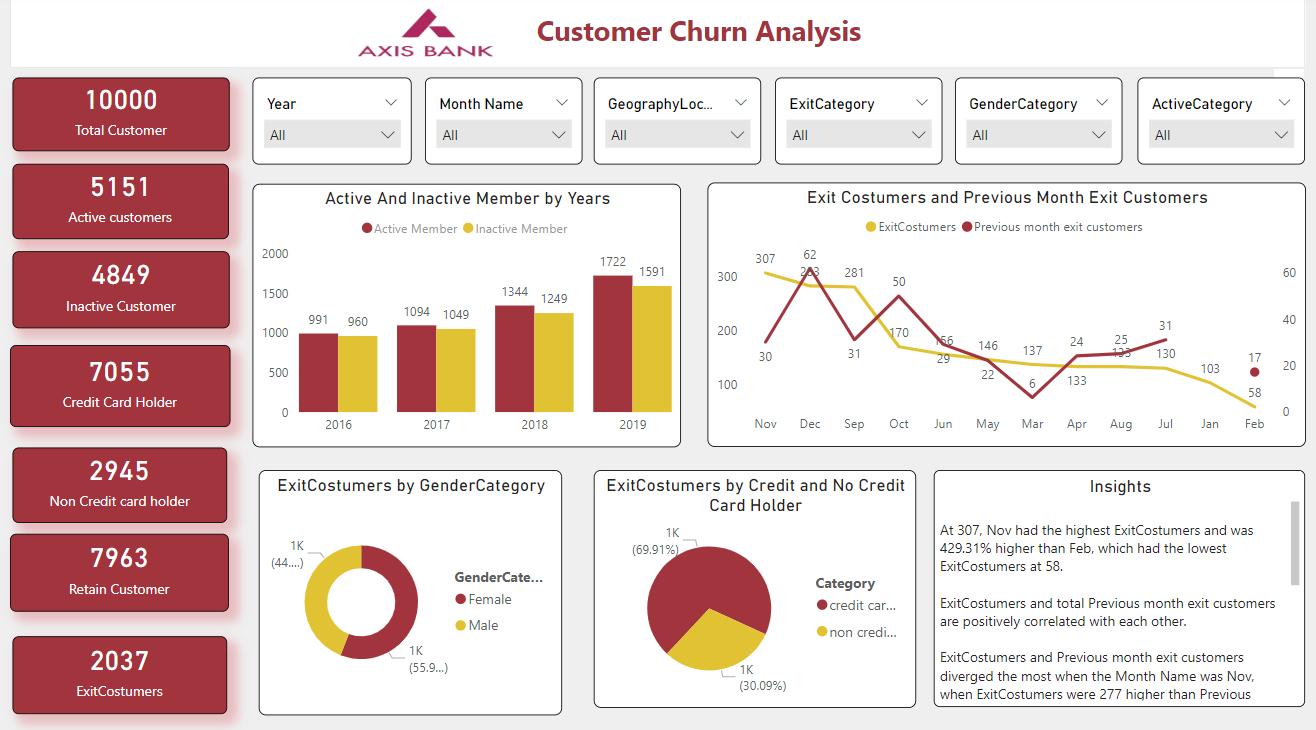

What the dashboard file says about the page in this screenshot:
{"tool":"powerbi","page":{"name":"Page 1","canvas":[1280,720],"ordinal":0},"visuals":[{"type":"card","fields":{"Values":["Calculation.Total Customer"]},"box":[12.3,79.6,209.9,71.4],"z":0},{"type":"card","fields":{"Values":["Calculation.Active customers"]},"box":[12.3,163.3,208.6,72.7],"z":1000},{"type":"card","fields":{"Values":["Calculation.Inactive Customer"]},"box":[12.3,247,209.9,74.1],"z":2000},{"type":"card","fields":{"Values":["Calculation.Credit Card Holder"]},"box":[9.6,337.6,212.7,79.6],"z":3000},{"type":"textbox","box":[9.6,0,1250.1,70],"z":4000},{"type":"image","box":[336.2,0,150,70],"z":5000},{"type":"card","fields":{"Values":["Calculation.Non Credit card holder"]},"box":[12.3,436.4,207.2,72.7],"z":6000},{"type":"card","fields":{"Values":["Calculation.Retain Customer"]},"box":[9.6,520.1,211.3,75.5],"z":7000},{"type":"card","fields":{"Values":["Calculation.ExitCostumers"]},"box":[12.3,618.9,207.2,75.5],"z":8000},{"type":"slicer","fields":{"Values":["DateMaster.Year"]},"box":[244.3,79.6,153.7,83.7],"z":9000},{"type":"slicer","fields":{"Values":["DateMaster.Month Name"]},"box":[410.3,79.6,152.3,83.7],"z":10000},{"type":"slicer","fields":{"Values":["Geography.GeographyLocation"]},"box":[573.6,79.6,161.9,83.7],"z":11000},{"type":"slicer","fields":{"Values":["ExitCustomer.ExitCategory"]},"box":[747.9,79.6,161.9,83.7],"z":12000},{"type":"slicer","fields":{"Values":["Gender.GenderCategory"]},"box":[922.1,79.6,161.9,83.7],"z":13000},{"type":"slicer","fields":{"Values":["ActiveCustomer.ActiveCategory"]},"box":[1097.8,79.6,161.9,83.7],"z":14000},{"type":"clusteredColumnChart","title":"Active And Inactive Member by Years","fields":{"Category":["DateMaster.Year","DateMaster.Month Name"],"Y":["Calculation.Total Customer"],"Series":["ActiveCustomer.ActiveCategory"]},"box":[243.7,182.2,413.8,254.6],"z":15000},{"type":"lineChart","title":"Exit Costumers and Previous Month Exit Customers","fields":{"Category":["DateMaster.Month Name"],"Y2":["Calculation.Previous month exit customers"],"Y":["Calculation.ExitCostumers"]},"box":[682.5,181.2,577.5,255],"z":16000},{"type":"donutChart","fields":{"Y":["Calculation.ExitCostumers"],"Category":["Gender.GenderCategory"]},"box":[249.7,458.4,293.2,236.5],"z":17000},{"type":"pieChart","title":"ExitCostumers by Credit and No Credit Card Holder","fields":{"Y":["Calculation.ExitCostumers"],"Category":["CreditCard.Category"]},"box":[573.1,458.4,311.3,229.2],"z":18000},{"type":"textbox","title":"Insights","box":[901.2,458.8,358.8,228.8],"z":19000}]}

Visuals, with their boxes in screenshot pixels (x1, y1, x2, y2), scaled from the page's 1280x720 canvas onto the 1316x730 screenshot:
card - Calculation.Total Customer: 13 81 228 153
card - Calculation.Active customers: 13 166 227 239
card - Calculation.Inactive Customer: 13 250 228 326
card - Calculation.Credit Card Holder: 10 342 229 423
textbox: 10 0 1295 71
image: 346 0 500 71
card - Calculation.Non Credit card holder: 13 442 226 516
card - Calculation.Retain Customer: 10 527 227 604
card - Calculation.ExitCostumers: 13 627 226 704
slicer - DateMaster.Year: 251 81 409 166
slicer - DateMaster.Month Name: 422 81 578 166
slicer - Geography.GeographyLocation: 590 81 756 166
slicer - ExitCustomer.ExitCategory: 769 81 935 166
slicer - Gender.GenderCategory: 948 81 1114 166
slicer - ActiveCustomer.ActiveCategory: 1129 81 1295 166
"Active And Inactive Member by Years" clusteredColumnChart: 251 185 676 443
"Exit Costumers and Previous Month Exit Customers" lineChart: 702 184 1295 442
donutChart - Calculation.ExitCostumers x Gender.GenderCategory: 257 465 558 705
"ExitCostumers by Credit and No Credit Card Holder" pieChart: 589 465 909 697
"Insights" textbox: 927 465 1295 697
